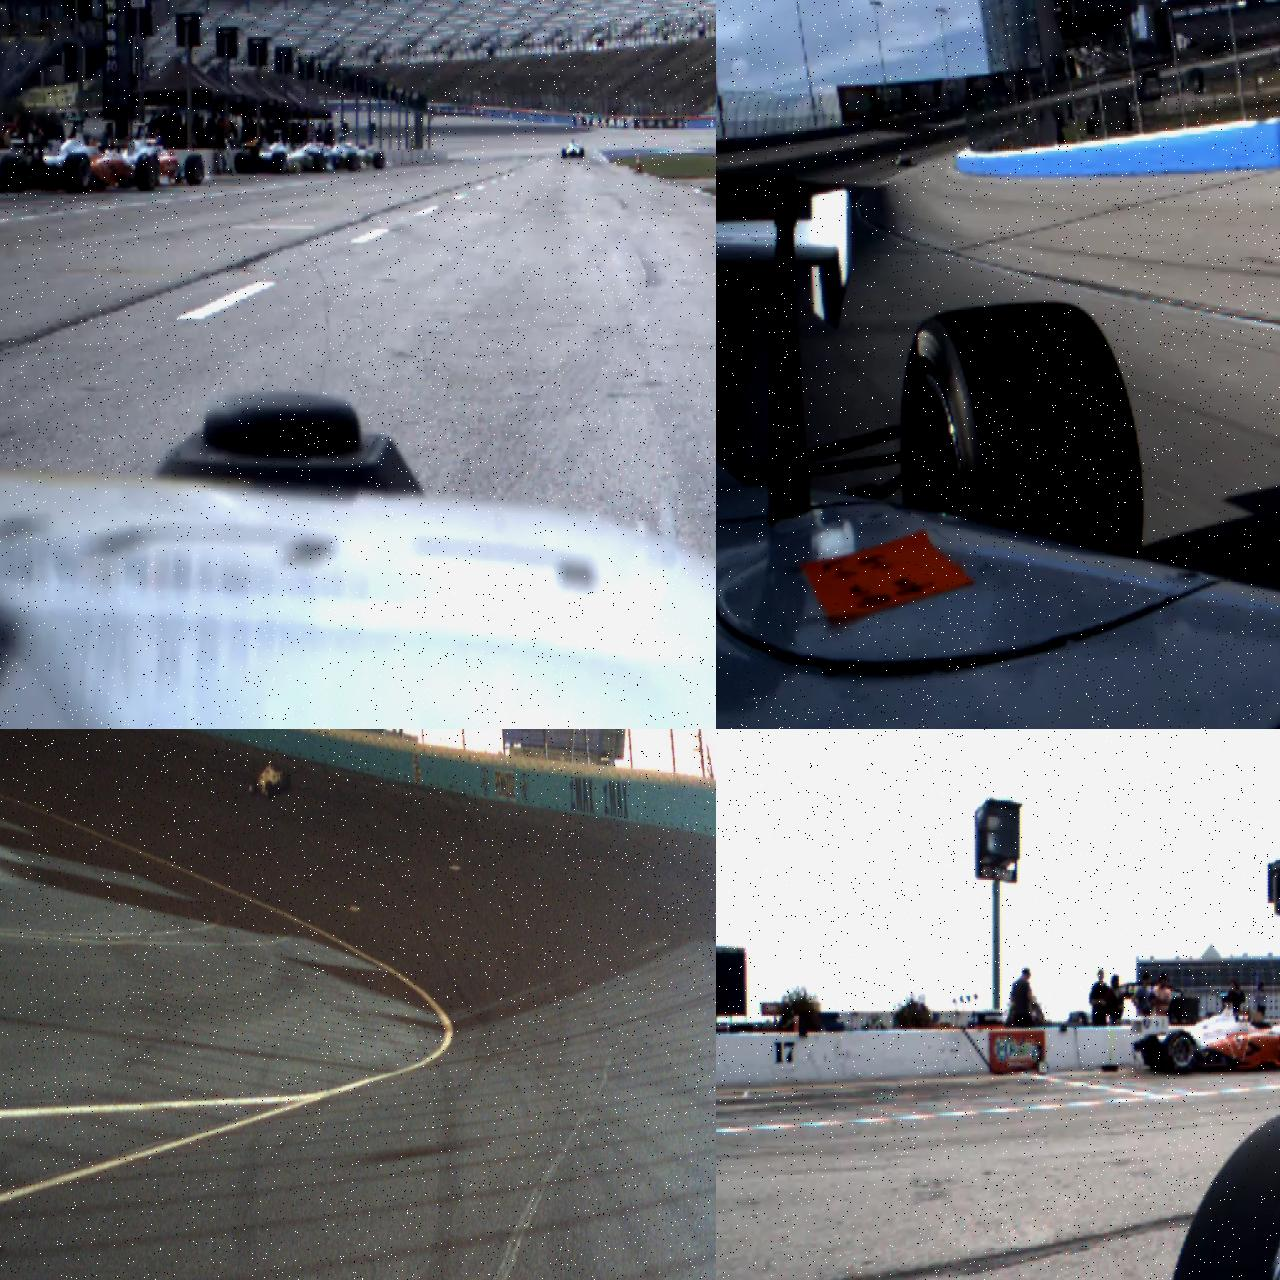AV: (0, 113, 160, 193), (1132, 992, 1280, 1075), (234, 130, 326, 176), (248, 758, 290, 798), (561, 140, 585, 160), (892, 155, 912, 167)
Wheel: (897, 298, 1145, 561), (1164, 1030, 1198, 1075), (63, 154, 90, 192), (0, 155, 26, 192), (136, 153, 160, 192), (185, 154, 205, 186), (271, 152, 287, 174), (313, 152, 326, 172), (234, 153, 246, 173), (347, 153, 359, 172), (373, 152, 385, 170), (265, 780, 273, 799), (284, 771, 290, 789), (251, 778, 257, 794), (562, 148, 566, 160), (580, 148, 584, 159)
